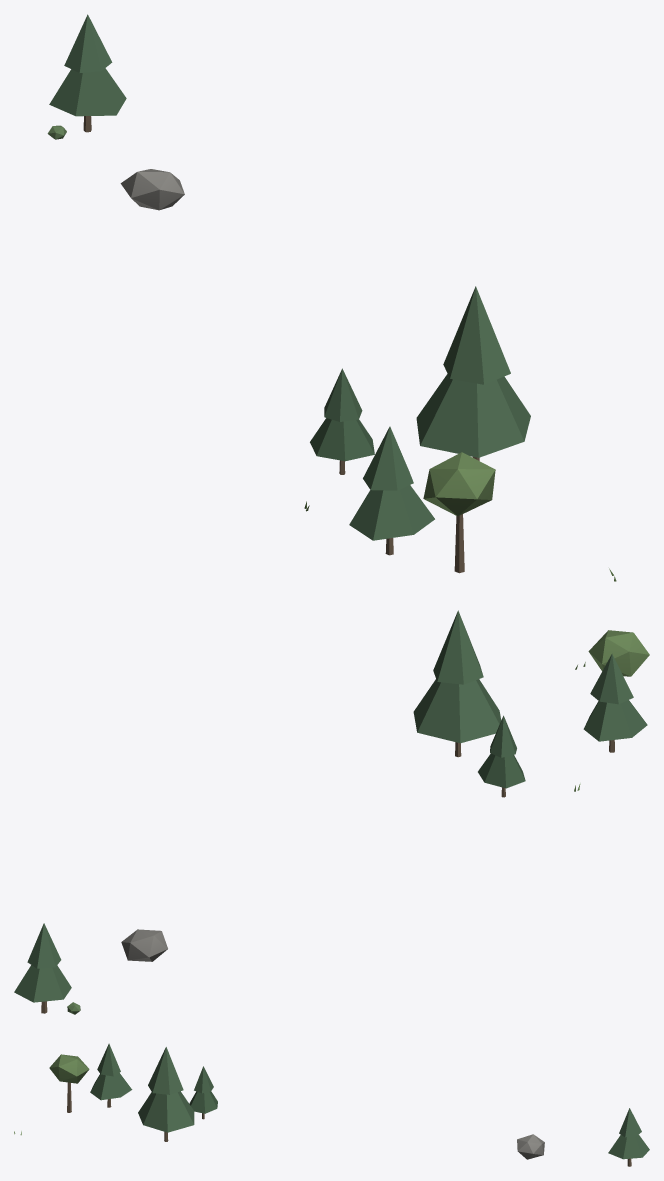
File: arch_land_scatter_c22_18_lod1.glb
3 views of the same model, one above another, from view 1: azimuth 30°, elevation 25°; view 2: azimuth 150°, elevation 25°; view 3: azimuth 270°, elevation 25° (orthographic). The views are drawn at different scales.
Visible parts, largest first — view 1: arch_land_scatter_c22_18_lod1; view 2: arch_land_scatter_c22_18_lod1; view 3: arch_land_scatter_c22_18_lod1.
Boxes of the visible parts, bbox=[...] form: arch_land_scatter_c22_18_lod1: bbox=[47, 14, 616, 581]; arch_land_scatter_c22_18_lod1: bbox=[14, 610, 649, 1014]; arch_land_scatter_c22_18_lod1: bbox=[14, 1043, 649, 1166].
Size of the model in its own units: 24.53 by 16.69 by 95.09.
